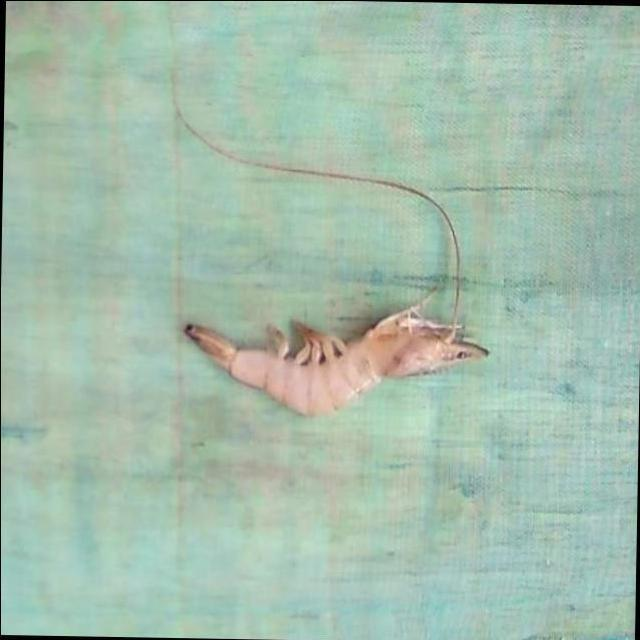shrimp: (183, 306, 488, 417)
